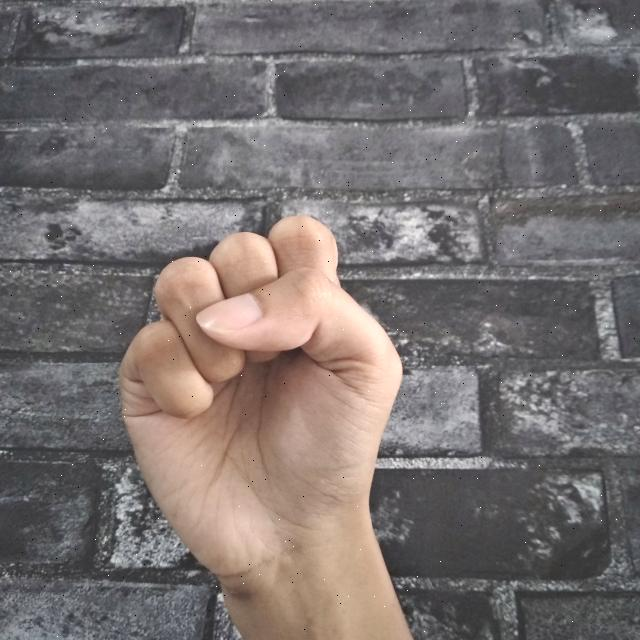S: (105, 208, 420, 640)
